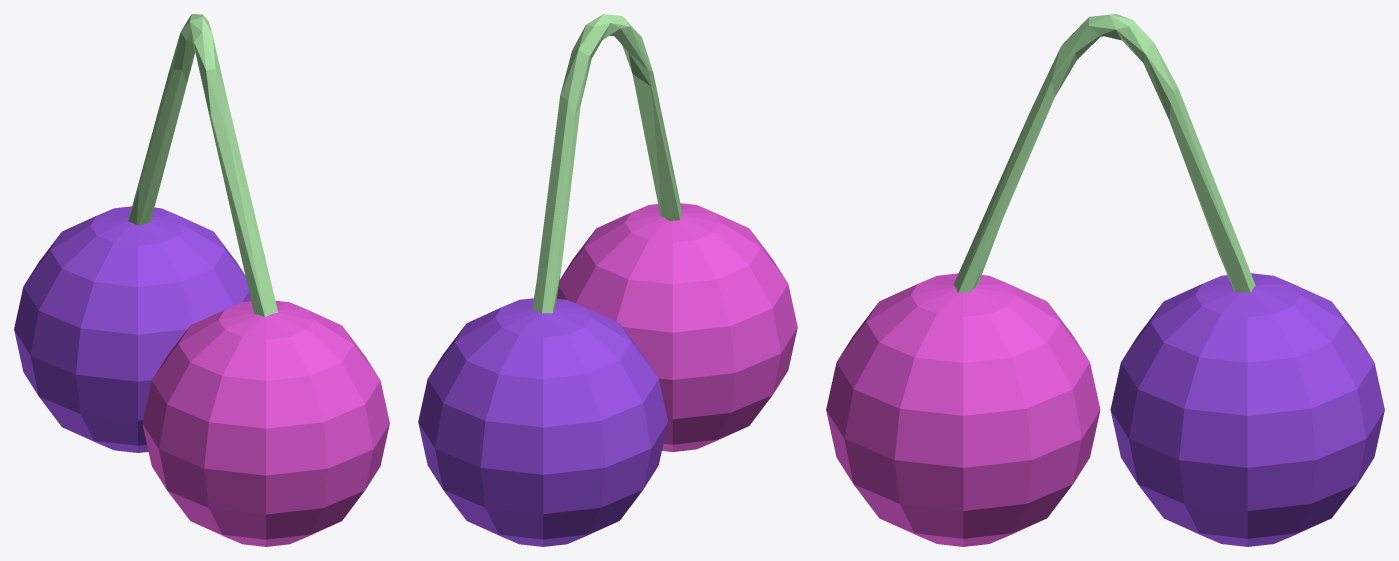
Rendered from Cherry.fbx.
The picture shows the model from 3 angles, left to right: view 1: azimuth 30°, elevation 25°; view 2: azimuth 150°, elevation 25°; view 3: azimuth 270°, elevation 25°; orthographic projection. The views are drawn at different scales.
Parts seen in each view (by area): view 1: Cherry; view 2: Cherry; view 3: Cherry.
Boxes of the visible parts, x1,y1,x2,y2 form: Cherry: (14,14,389,546); Cherry: (418,14,797,546); Cherry: (826,14,1384,546).
Size of the model in its own units: 179 by 376 by 365.
